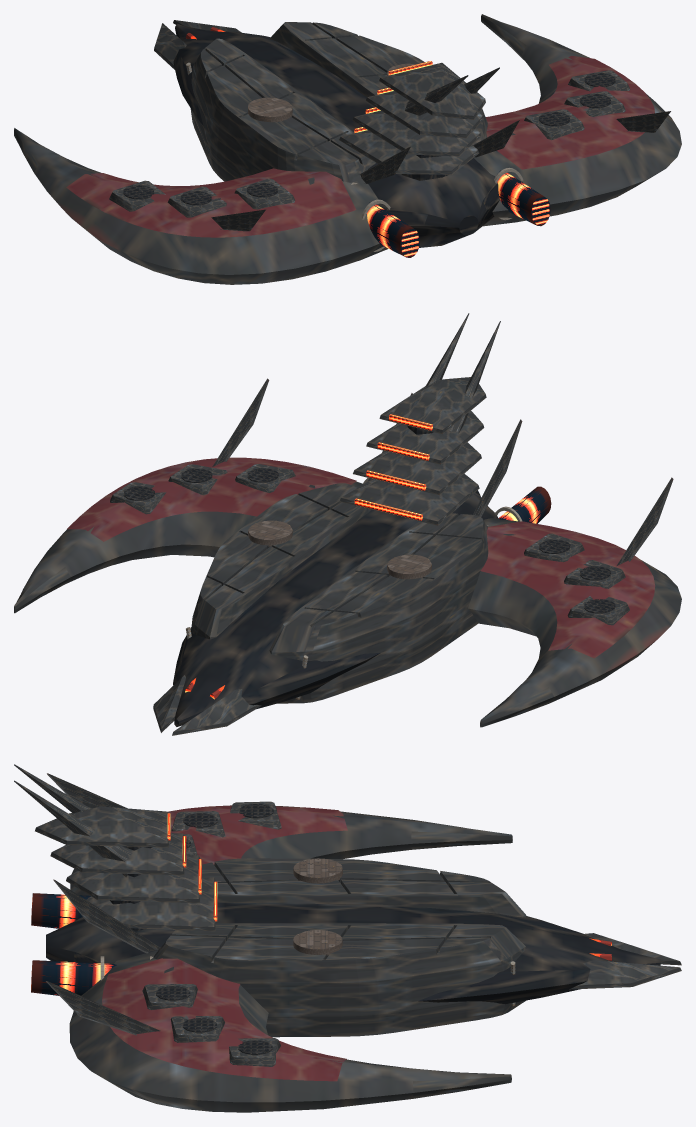
Rendered from dynasty_battleship_recreated_lod1.glb.
The picture shows the model from 3 angles, top to bottom: view 1: azimuth 30°, elevation 25°; view 2: azimuth 150°, elevation 25°; view 3: azimuth 270°, elevation 25°; orthographic projection. The views are drawn at different scales.
Visible parts, largest first — view 1: dynasty_battleship_lod_source; view 2: dynasty_battleship_lod_source; view 3: dynasty_battleship_lod_source.
Part boxes in pixels (<box>): dynasty_battleship_lod_source: <box>14,14,681,284</box>; dynasty_battleship_lod_source: <box>14,313,681,735</box>; dynasty_battleship_lod_source: <box>14,764,681,1112</box>.
Bounding box in the file's own units: 3.79 × 1.39 × 3.74.
Materials: 1 (1 with a texture image).
